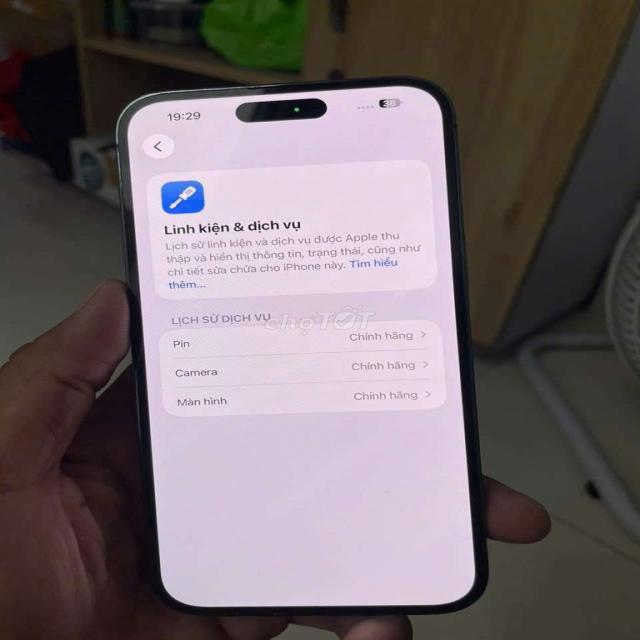gen_14: (117, 71, 510, 628)
